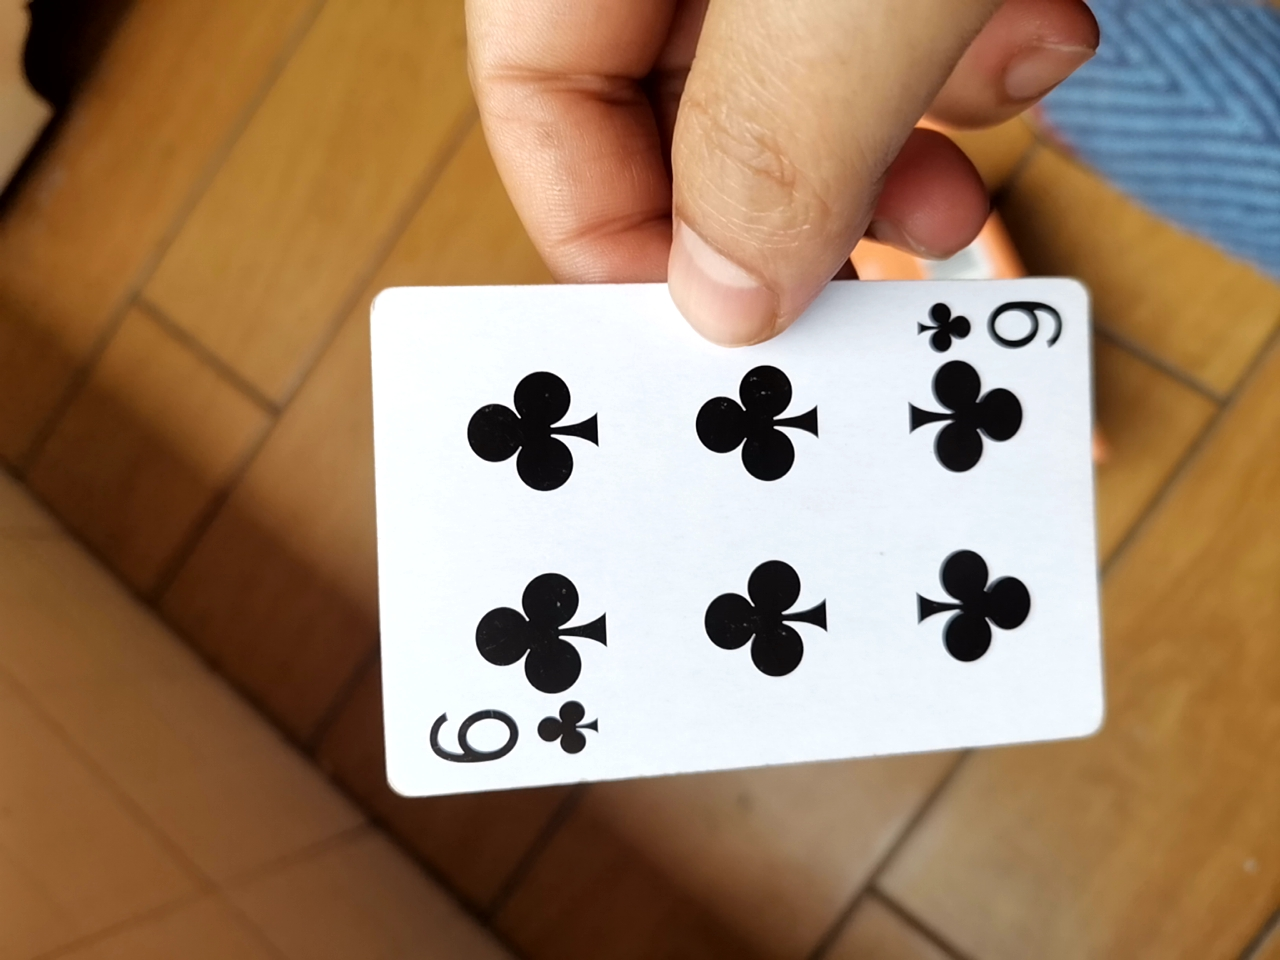mh 6: (344, 266, 1109, 815)
